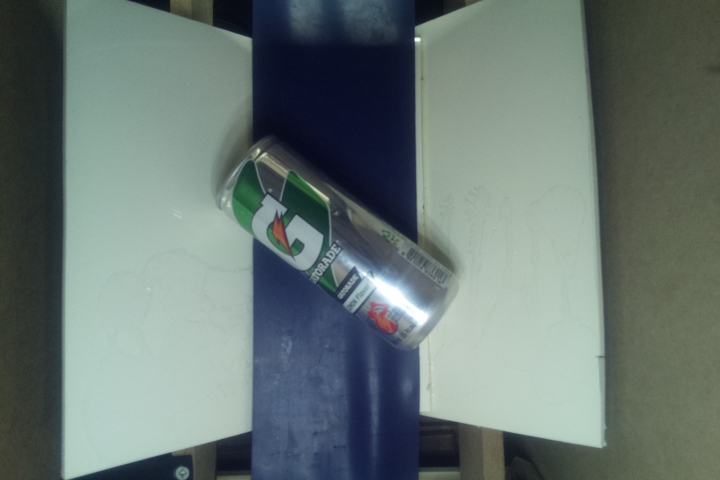can: (211, 136, 459, 357)
